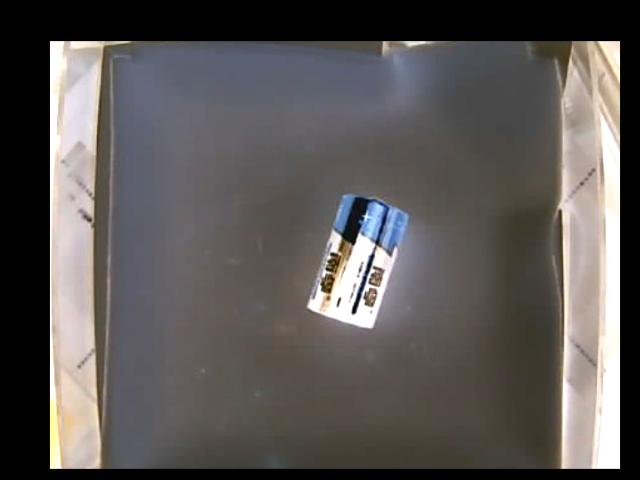Battery: (304, 196, 409, 331)
